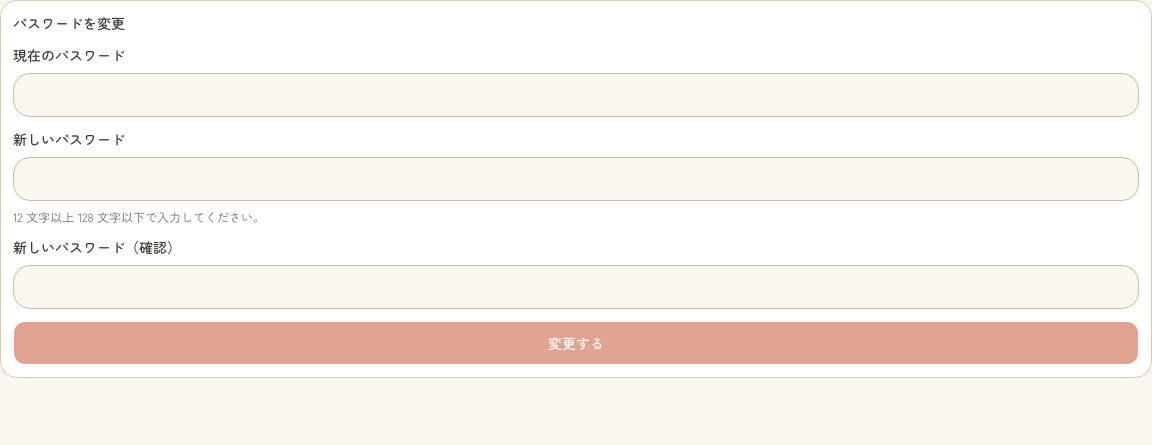
Test: ChangePasswordForm › CT-21: 成功時に成功文言を表示する
Type "old-password-1234" into the password field labelled "現在のパスワード" at {"x": 576, "y": 95}, box [13,73,1139,117]
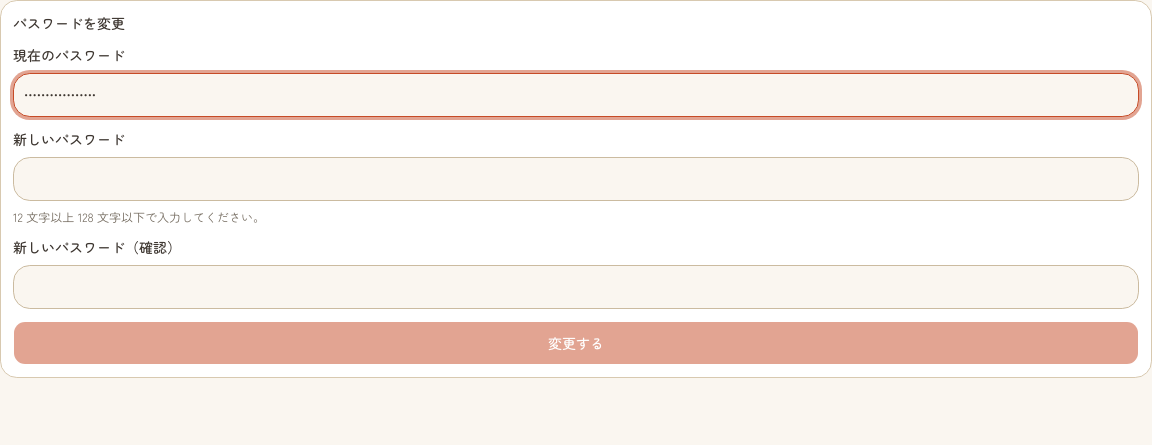
Type "new-password-1234" into the password field labelled "新しいパスワード" at {"x": 576, "y": 179}, box [13,157,1139,201]
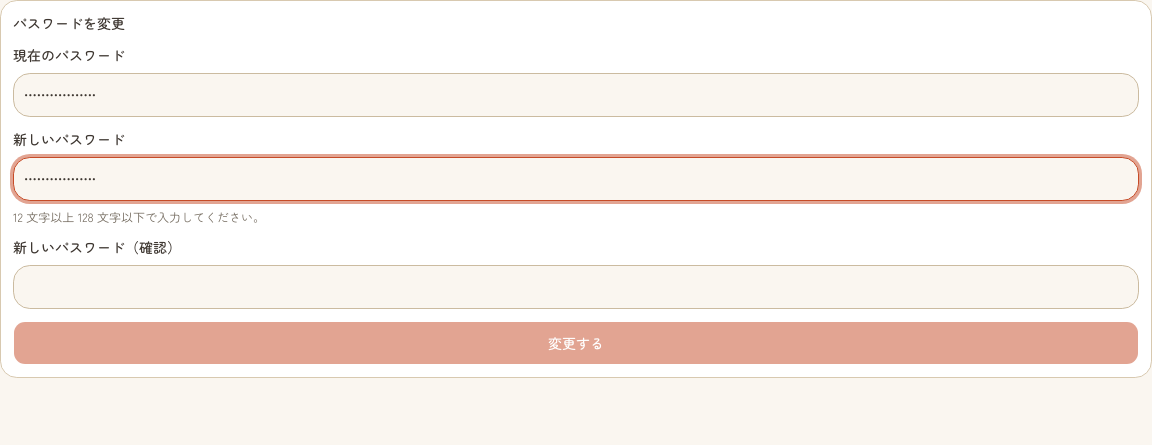
Type "new-password-1234" into the password field labelled "新しいパスワード（確認）" at {"x": 576, "y": 287}, box [13,265,1139,309]
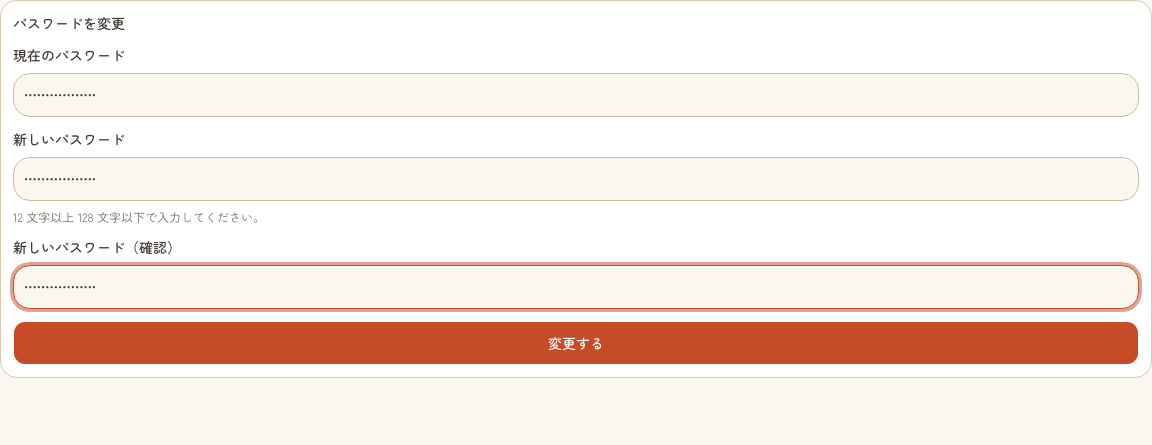
Click the button "変更する" at {"x": 576, "y": 343}, box [13,321,1139,365]
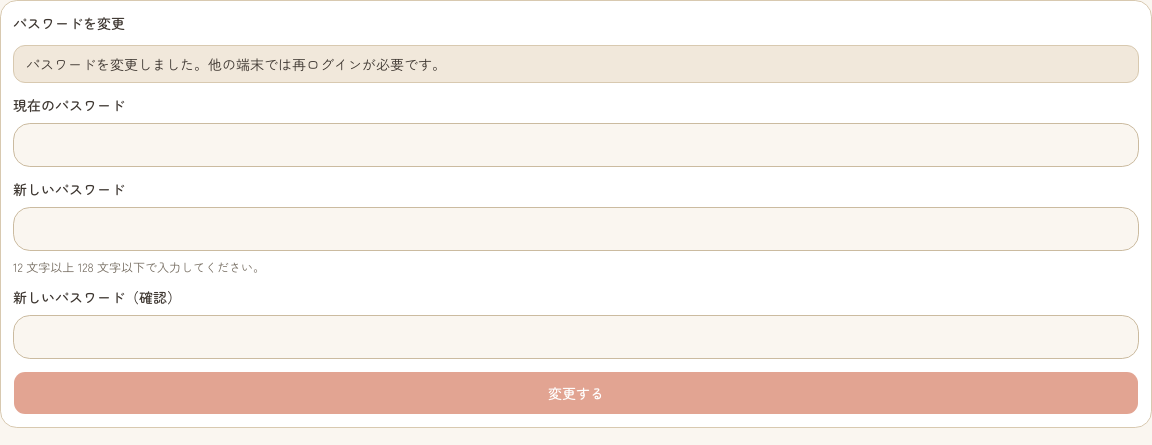
Result: the text "パスワードを変更しました。他の端末では再ログインが必要です。" is shown at [13,45,1139,83]
